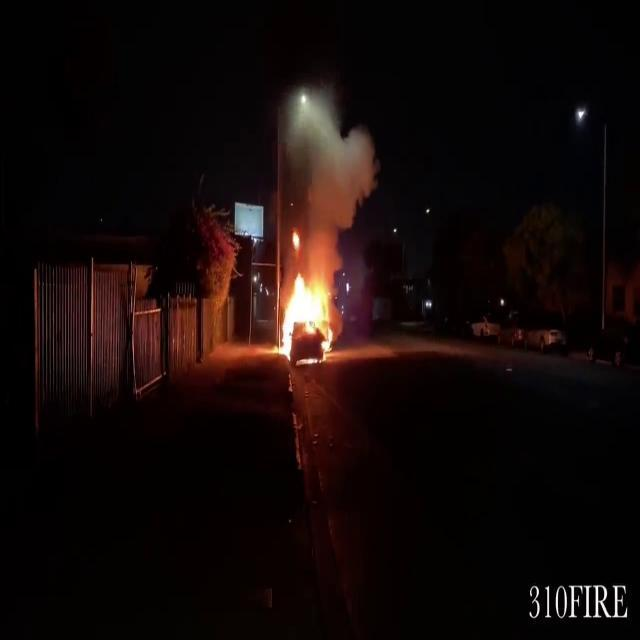Fire: (275, 257, 340, 362)
Smoke: (281, 84, 379, 258)
